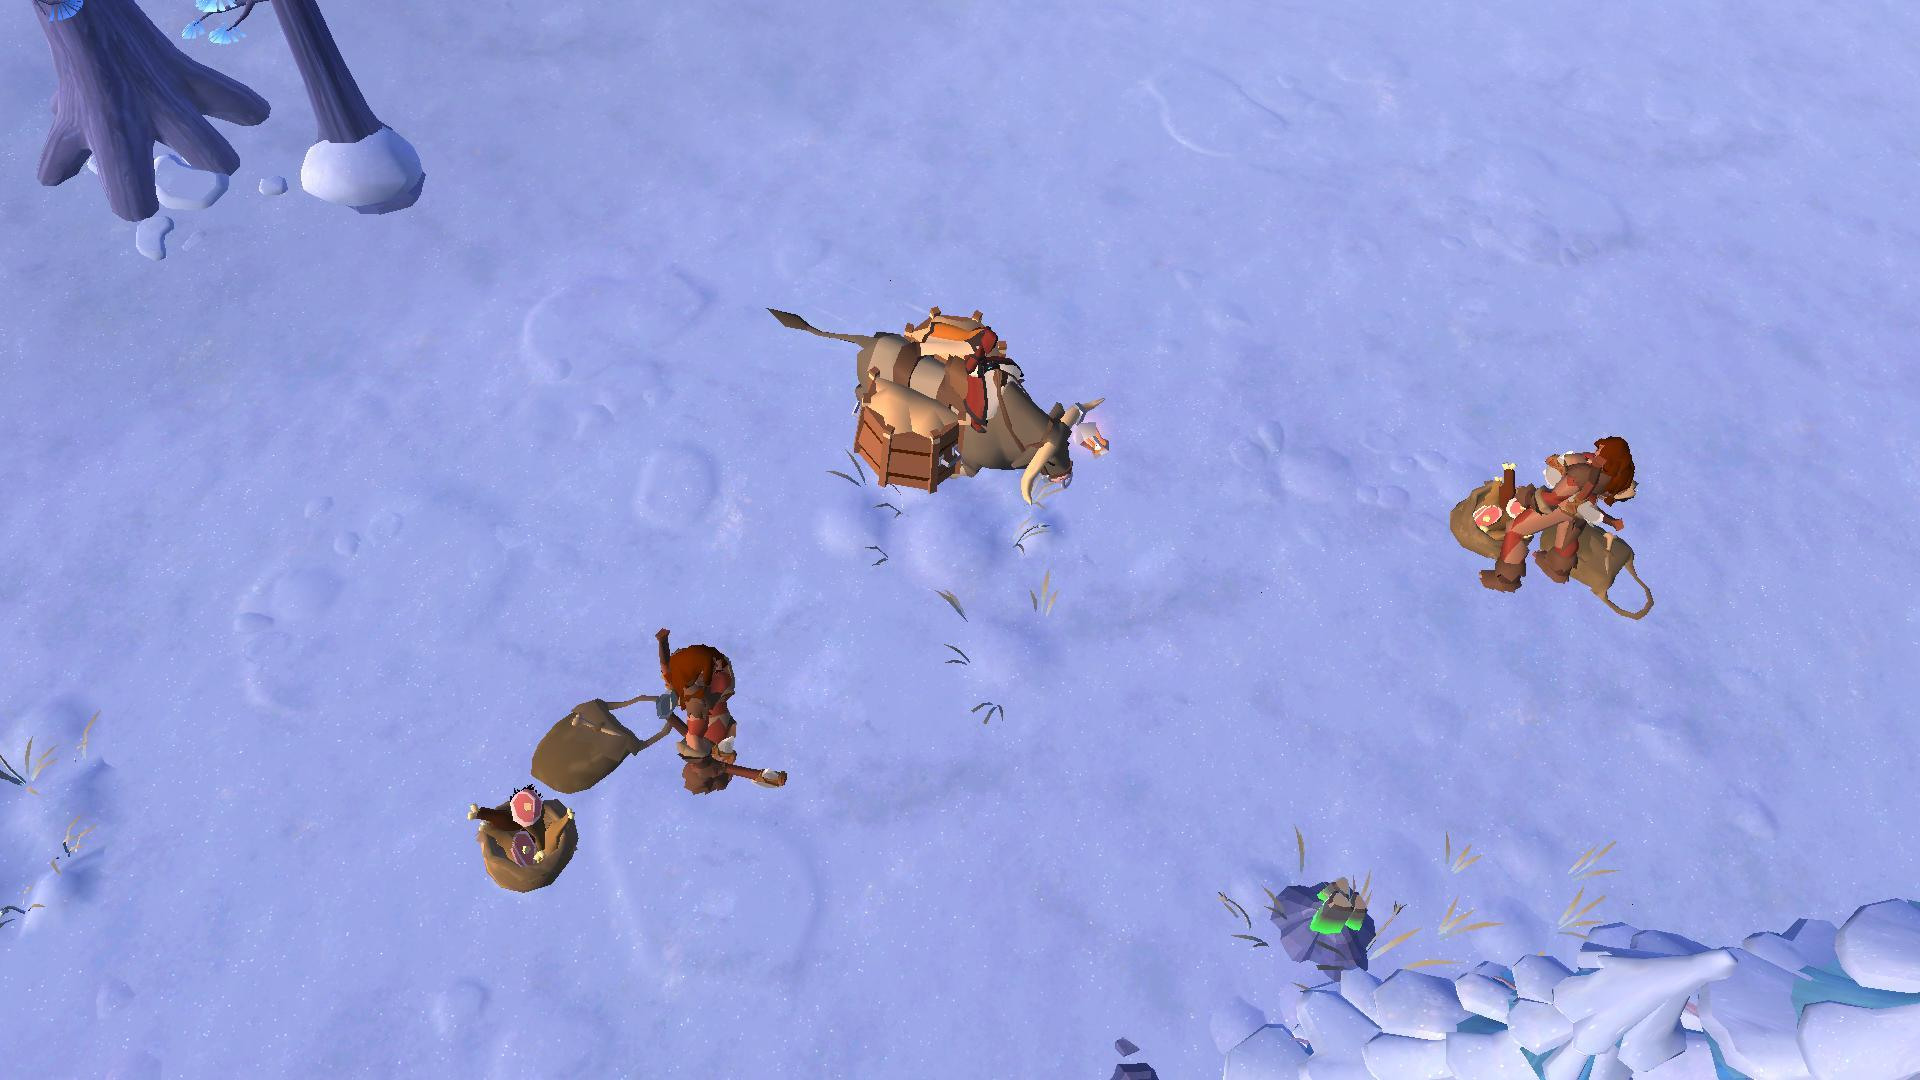enemy_factionKeeper: (642, 628, 787, 802), (1481, 422, 1625, 596)
ore_t3: (1308, 876, 1373, 951)
